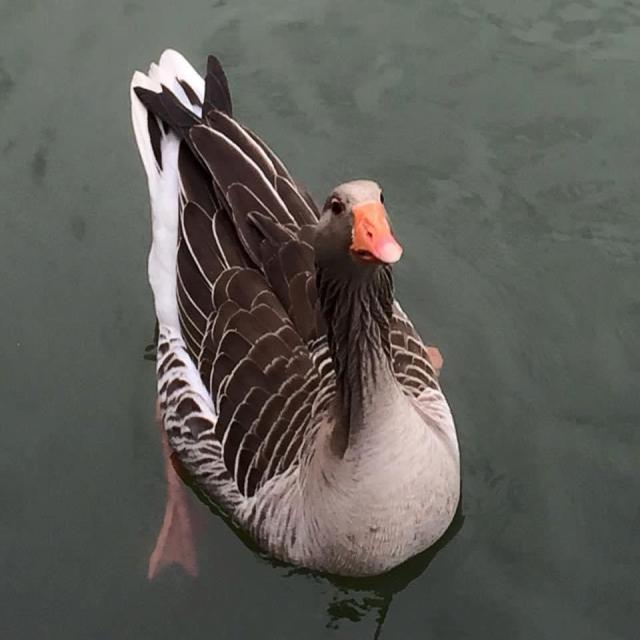Goose: (122, 39, 469, 600)
